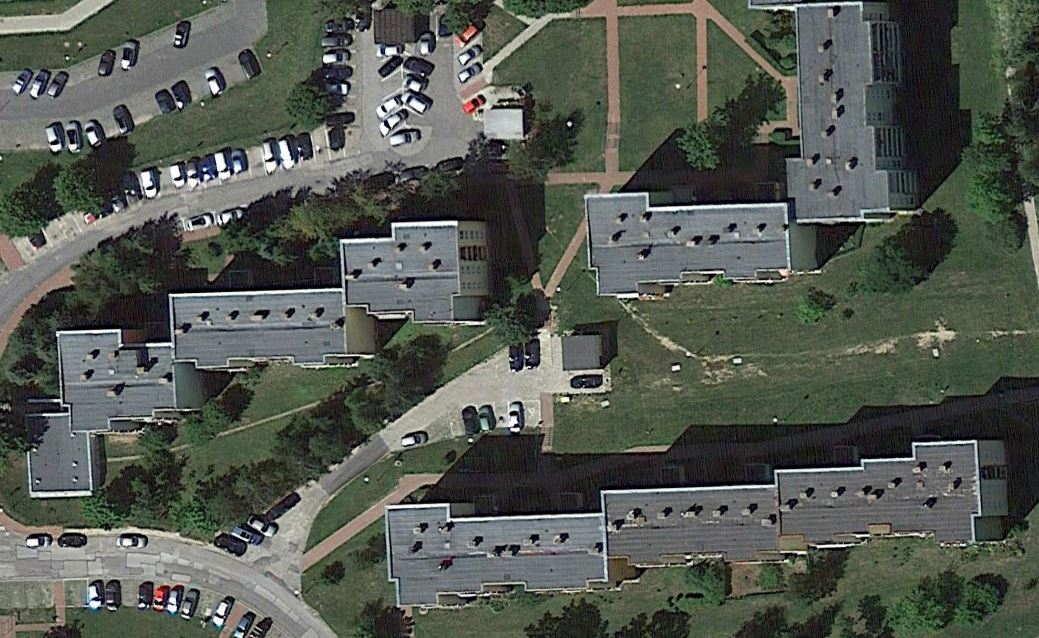block of flats: (16, 196, 515, 507), (371, 423, 1017, 621), (575, 1, 933, 309)
